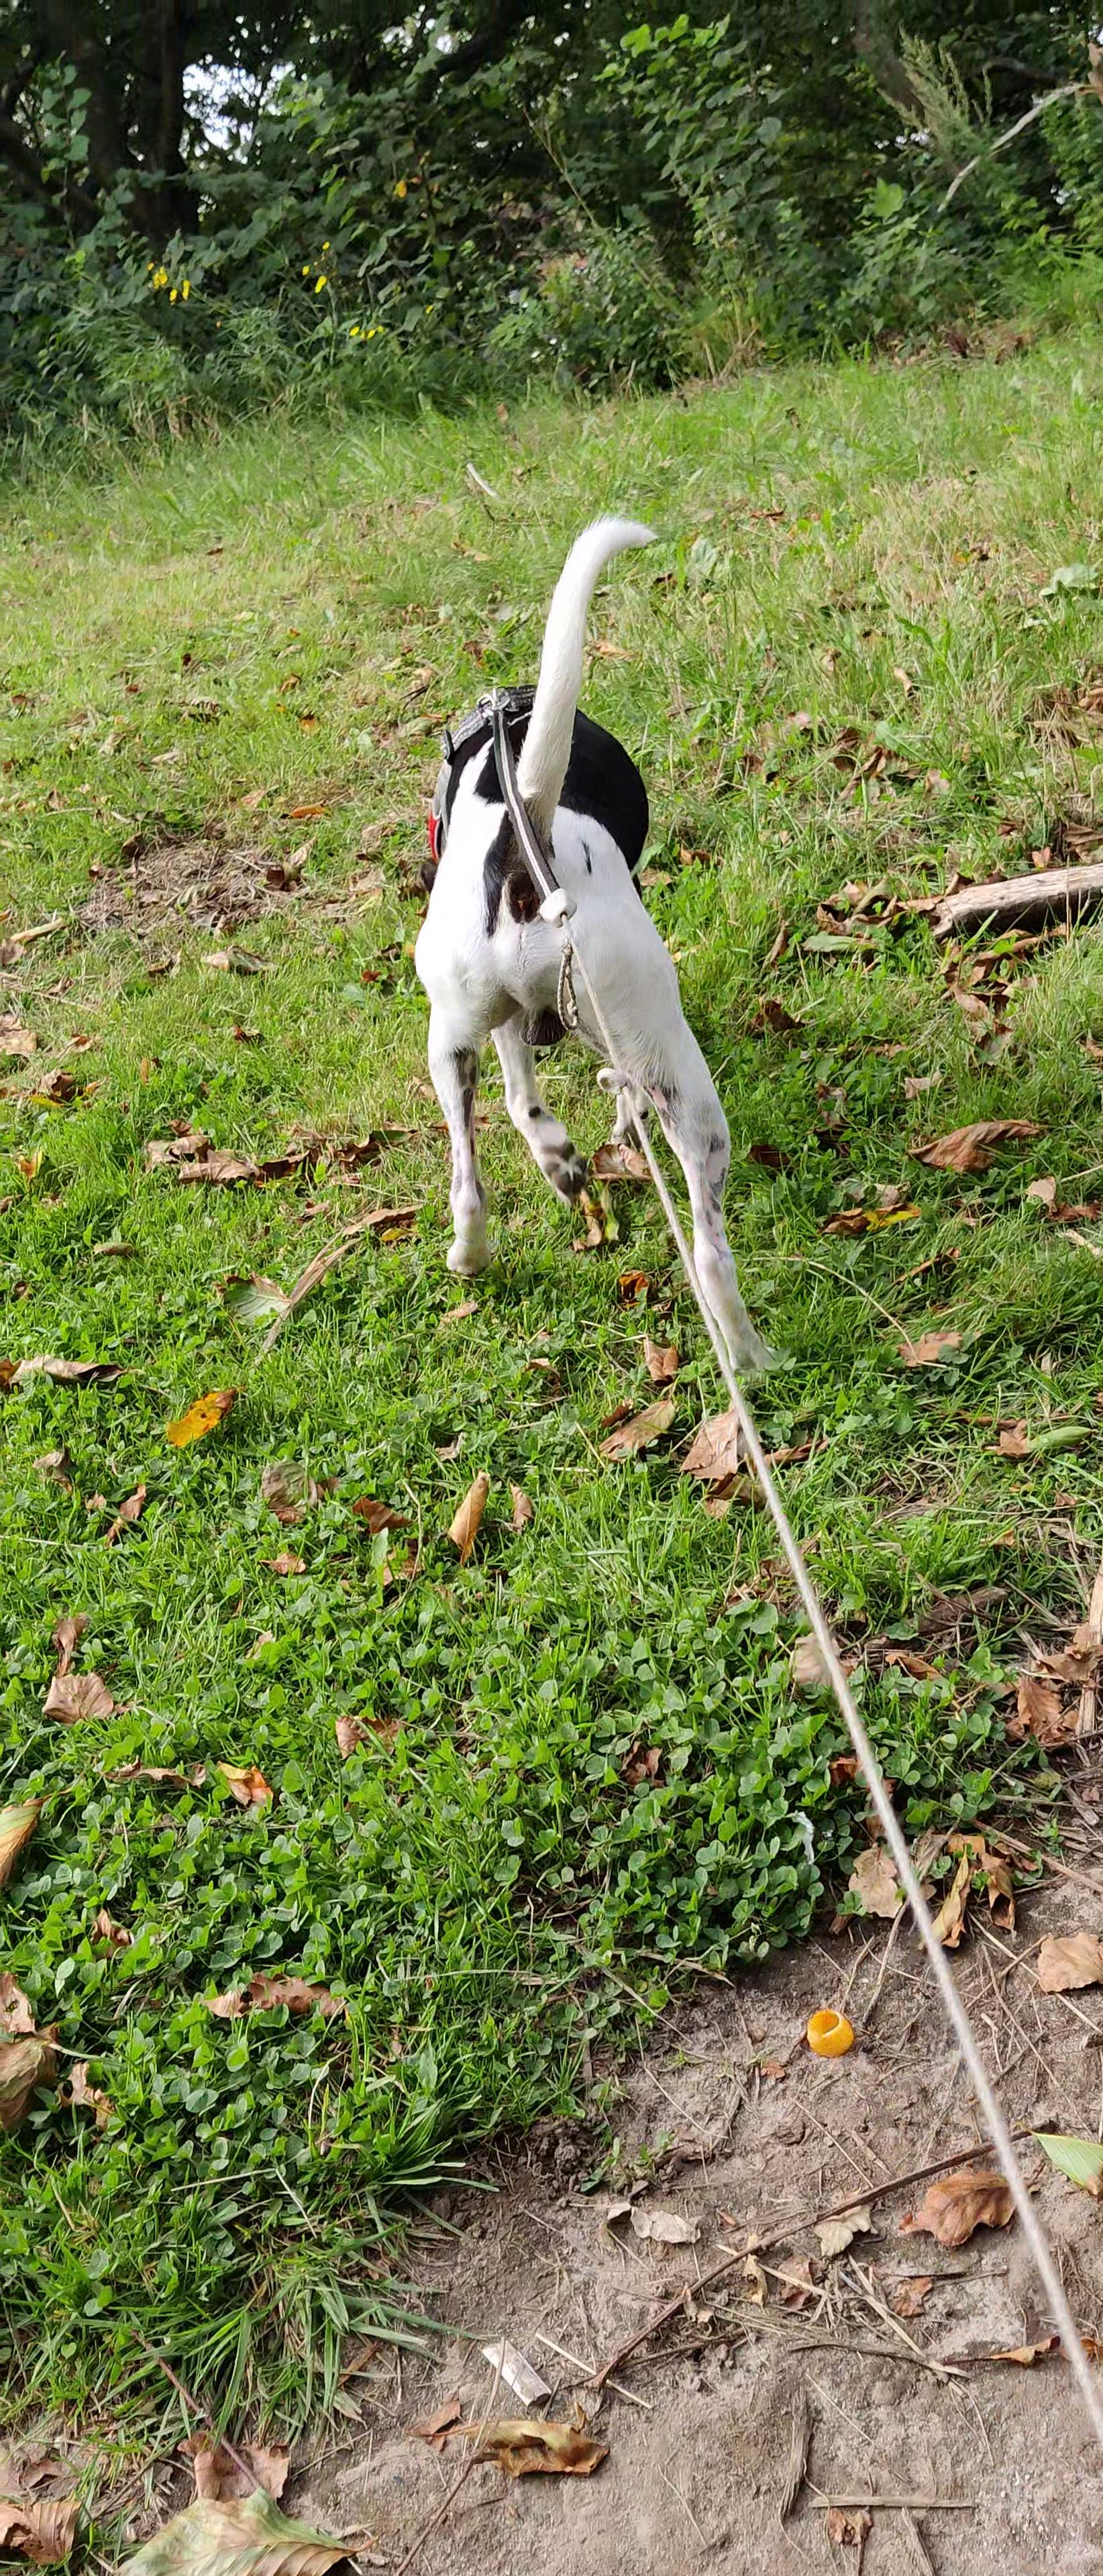Dog: (357, 465, 822, 1395)
